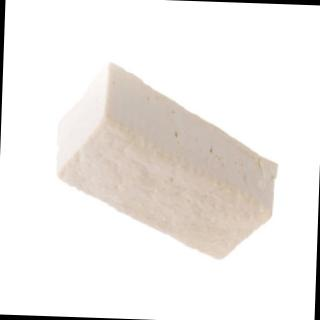Tahu: (49, 53, 289, 271)
